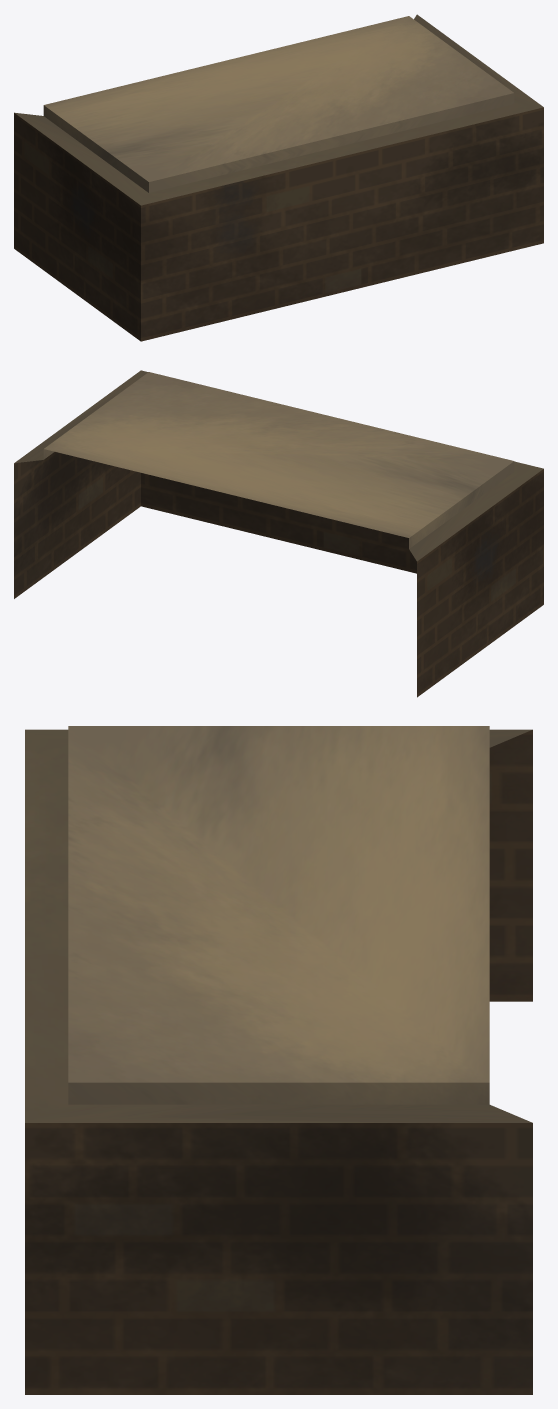
File: ground.fbx
3 renders of one model, top to bottom at view 1: azimuth 30°, elevation 25°; view 2: azimuth 150°, elevation 25°; view 3: azimuth 270°, elevation 25°, orthographic. The views are drawn at different scales.
Parts seen in each view (by area): view 1: Ground; view 2: Ground; view 3: Ground.
Boxes of the visible parts, <box> form: Ground: <box>14,14,543,341</box>; Ground: <box>14,370,543,697</box>; Ground: <box>25,726,532,1394</box>.
Bounding box in the file's own units: 2852 × 994 × 1557.
1 material, 1 textured.
